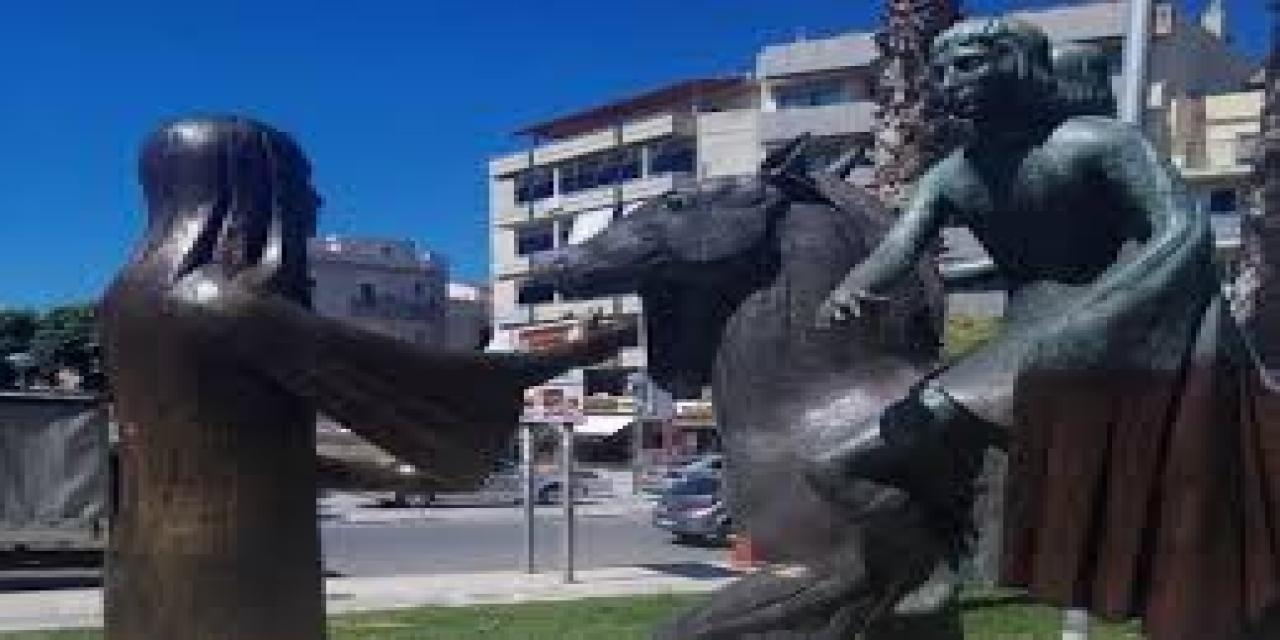Aretousa: (95, 16, 1280, 640)
